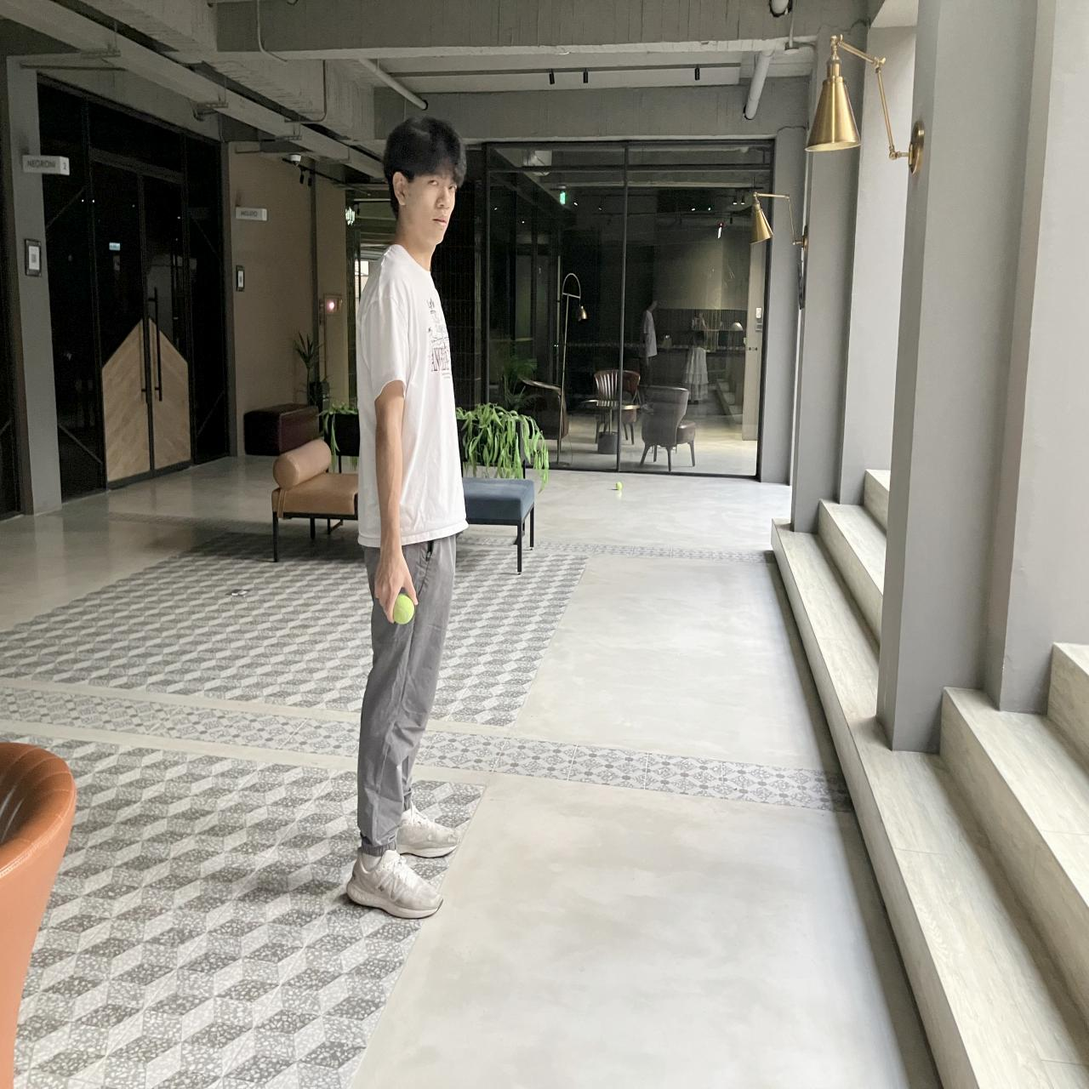person: (347, 117, 466, 918)
tennisball: (394, 593, 414, 624), (616, 482, 622, 490)
